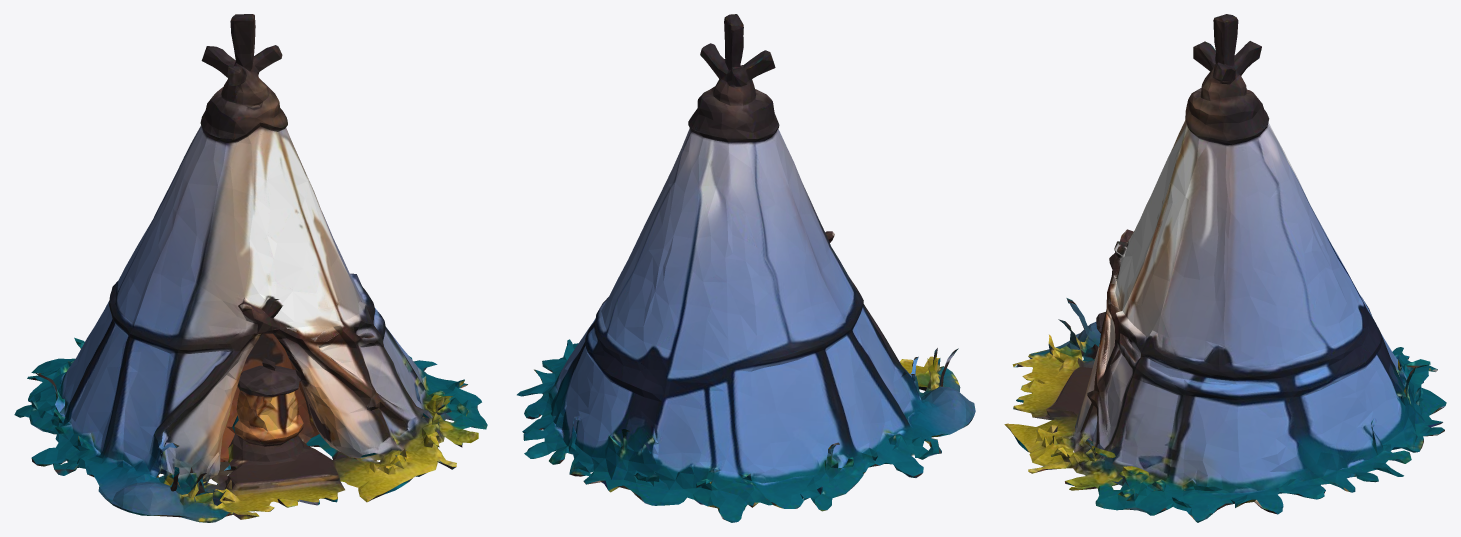
The model's file is tent.glb.
3 renders of one model, left to right at view 1: azimuth 30°, elevation 25°; view 2: azimuth 150°, elevation 25°; view 3: azimuth 270°, elevation 25°, orthographic.
Parts seen in each view (by area): view 1: tmpx04c7u9v.ply; view 2: tmpx04c7u9v.ply; view 3: tmpx04c7u9v.ply.
Part boxes in pixels (x1=…): tmpx04c7u9v.ply: x1=14, y1=14, x2=487, y2=522; tmpx04c7u9v.ply: x1=517, y1=14, x2=975, y2=522; tmpx04c7u9v.ply: x1=1004, y1=14, x2=1446, y2=522.
Bounding box in the file's own units: 1.99 × 1.92 × 1.89.
Materials: 1 (1 with a texture image).
